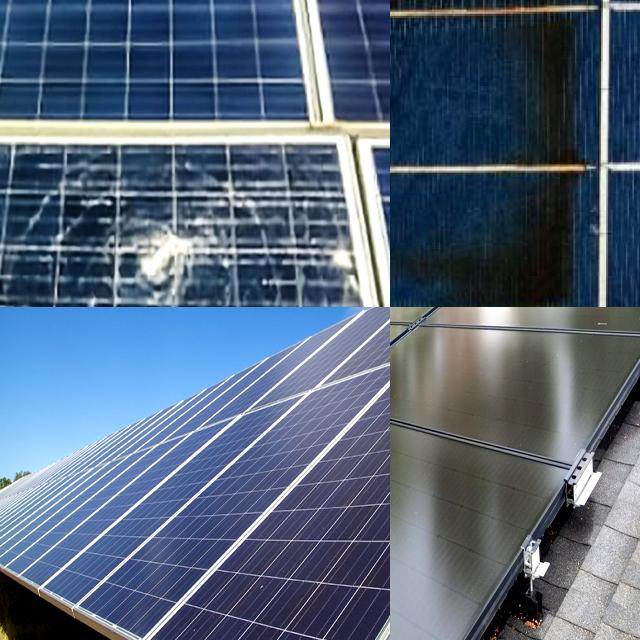crack: (283, 421, 390, 640), (162, 459, 270, 586)
hotspot: (112, 195, 251, 307), (314, 222, 372, 307)
shadow: (390, 0, 581, 307)
